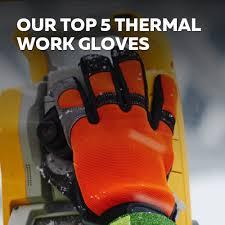gloves: (39, 46, 179, 222)
